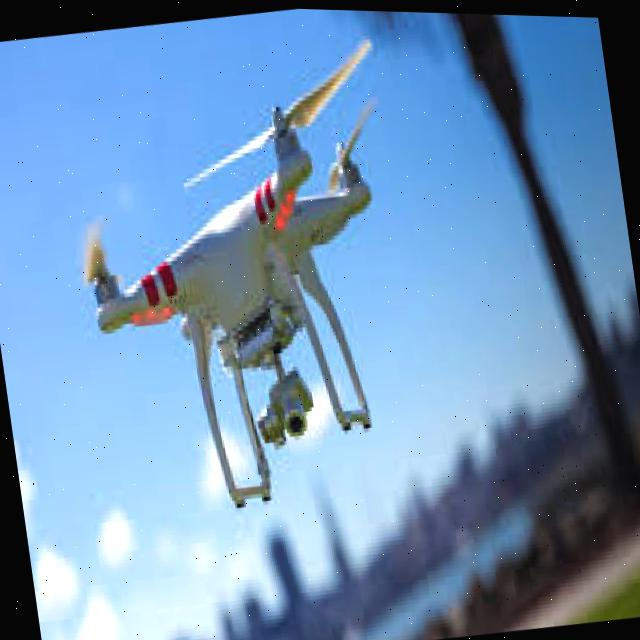drone: (63, 52, 439, 540)
